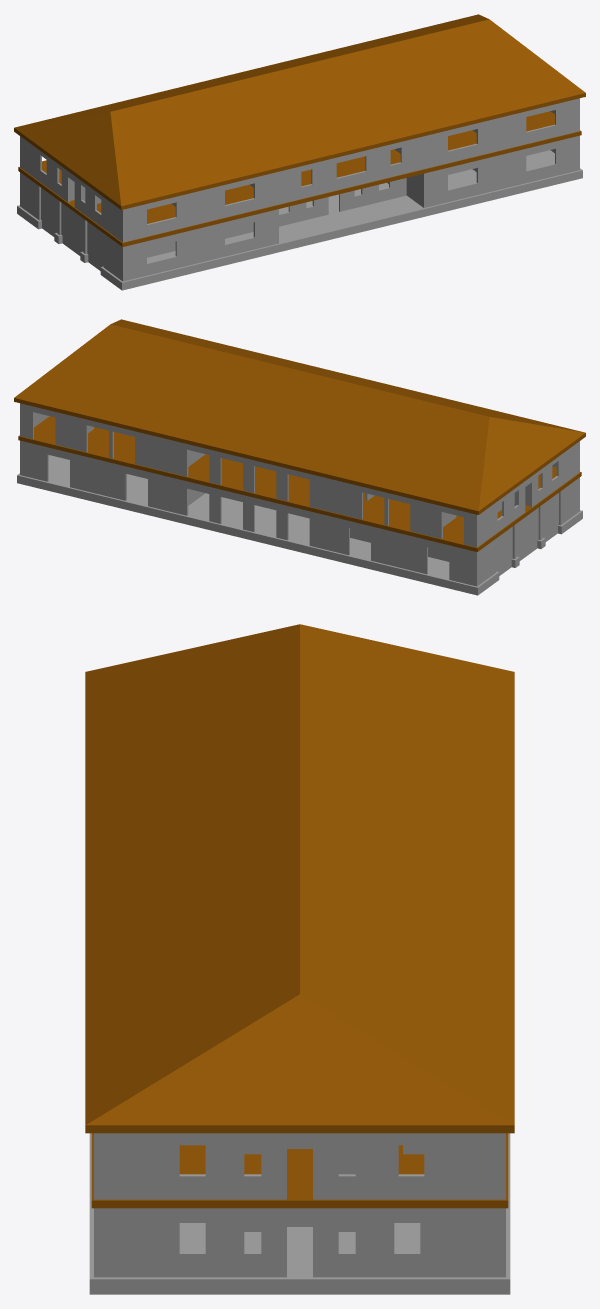
The model's file is room-type-2.glb.
The picture shows the model from 3 angles, top to bottom: view 1: azimuth 30°, elevation 25°; view 2: azimuth 150°, elevation 25°; view 3: azimuth 270°, elevation 25°; orthographic projection. The views are drawn at different scales.
Visible parts, largest first — view 1: roof, foundation, room-1.001, floor-2, living-room, family-2, room-1, room-2, room-6, family-1, Plane, room-5 (+3 smaller); view 2: roof, foundation, floor-2, container-back, family-3, room-7, media-room, living-room, Plane, room-3, room-4, family-2 (+1 smaller); view 3: roof, foundation, room-2, room-4, room-7, room-6, floor-2, door-1, door-2.
Part boxes in pixels (bbox=[...]): roof: bbox=[14, 14, 585, 209]; foundation: bbox=[17, 150, 582, 290]; room-1.001: bbox=[103, 209, 278, 281]; floor-2: bbox=[18, 111, 581, 246]; living-room: bbox=[279, 136, 423, 204]; family-2: bbox=[75, 177, 200, 242]; room-1: bbox=[406, 154, 501, 207]; room-2: bbox=[502, 135, 579, 188]; room-6: bbox=[502, 98, 579, 149]; family-1: bbox=[201, 171, 278, 223]; Plane: bbox=[41, 188, 103, 270]; room-5: bbox=[424, 117, 501, 168]; roof: bbox=[14, 319, 585, 514]; foundation: bbox=[17, 455, 582, 595]; floor-2: bbox=[18, 416, 581, 551]; container-back: bbox=[321, 514, 496, 586]; family-3: bbox=[321, 476, 524, 547]; room-7: bbox=[20, 403, 175, 473]; media-room: bbox=[176, 478, 320, 548]; living-room: bbox=[176, 441, 320, 509]; Plane: bbox=[496, 493, 558, 575]; room-3: bbox=[98, 459, 175, 512]; room-4: bbox=[20, 440, 97, 493]; family-2: bbox=[525, 441, 579, 506]; roof: bbox=[85, 624, 514, 1133]; foundation: bbox=[89, 1133, 510, 1294]; room-2: bbox=[94, 1208, 282, 1277]; room-4: bbox=[317, 1208, 505, 1277]; room-7: bbox=[317, 1133, 505, 1199]; room-6: bbox=[94, 1133, 282, 1199]; floor-2: bbox=[91, 1133, 508, 1208]; door-1: bbox=[282, 1208, 317, 1277]; door-2: bbox=[282, 1133, 317, 1199].
Size of the model in its own units: 25 by 6.7 by 10.
